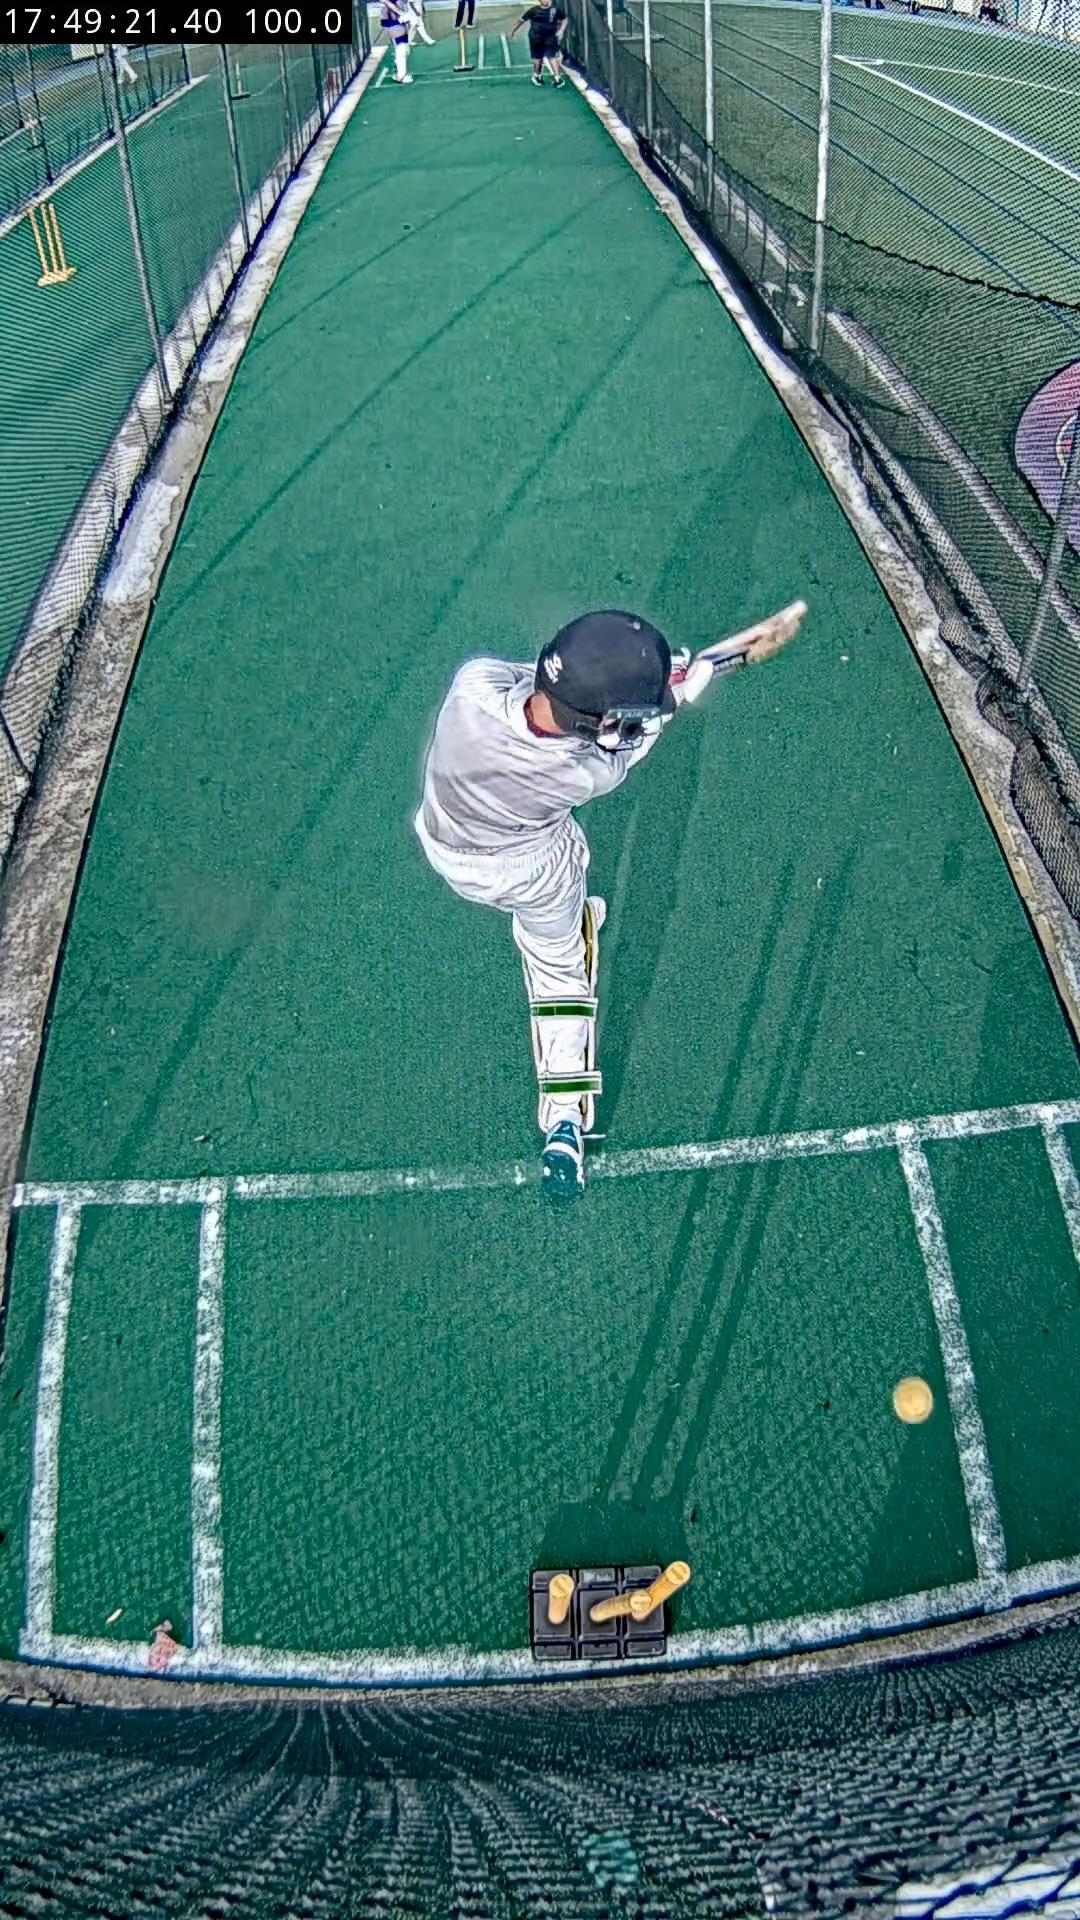ball: (893, 1377, 934, 1425)
bat: (694, 600, 806, 675)
gloves: (671, 659, 716, 705)
helmet: (537, 612, 675, 750)
pads: (582, 897, 608, 984)
stumps: (529, 1560, 690, 1662)
